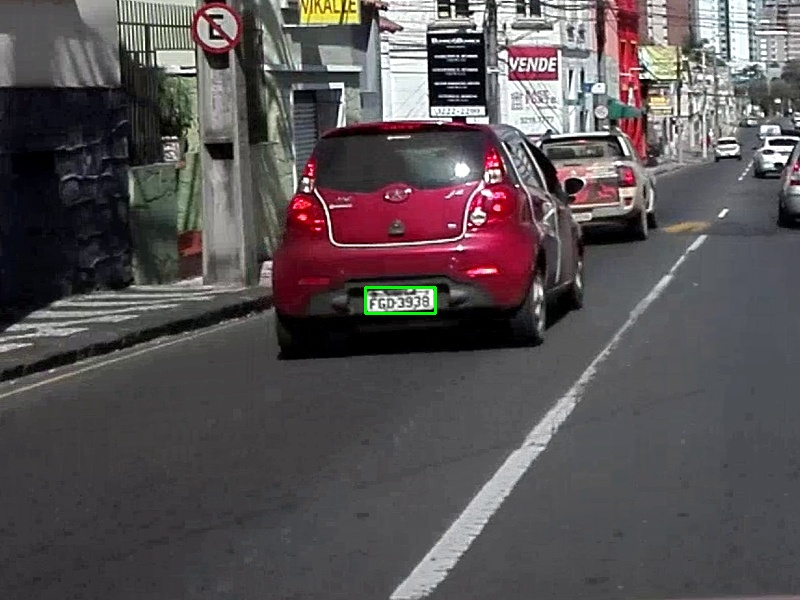placa: (365, 287, 435, 313)
